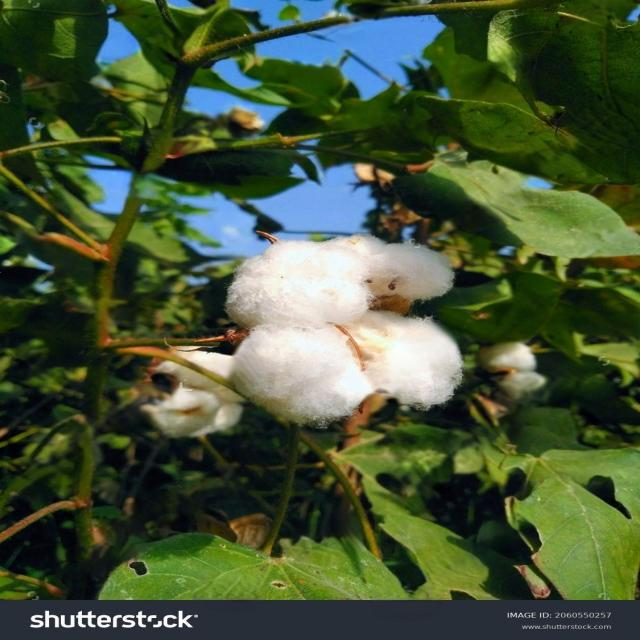Leaf: (201, 202, 492, 437)
